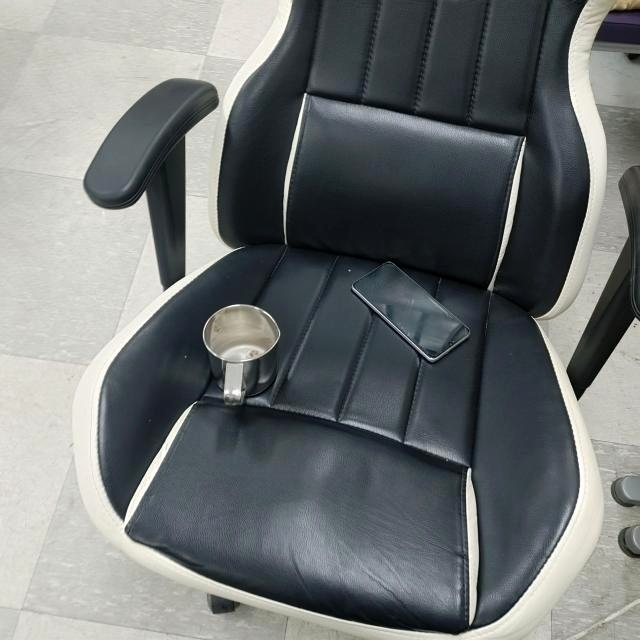cup: (202, 301, 282, 407)
phone: (350, 260, 468, 365)
